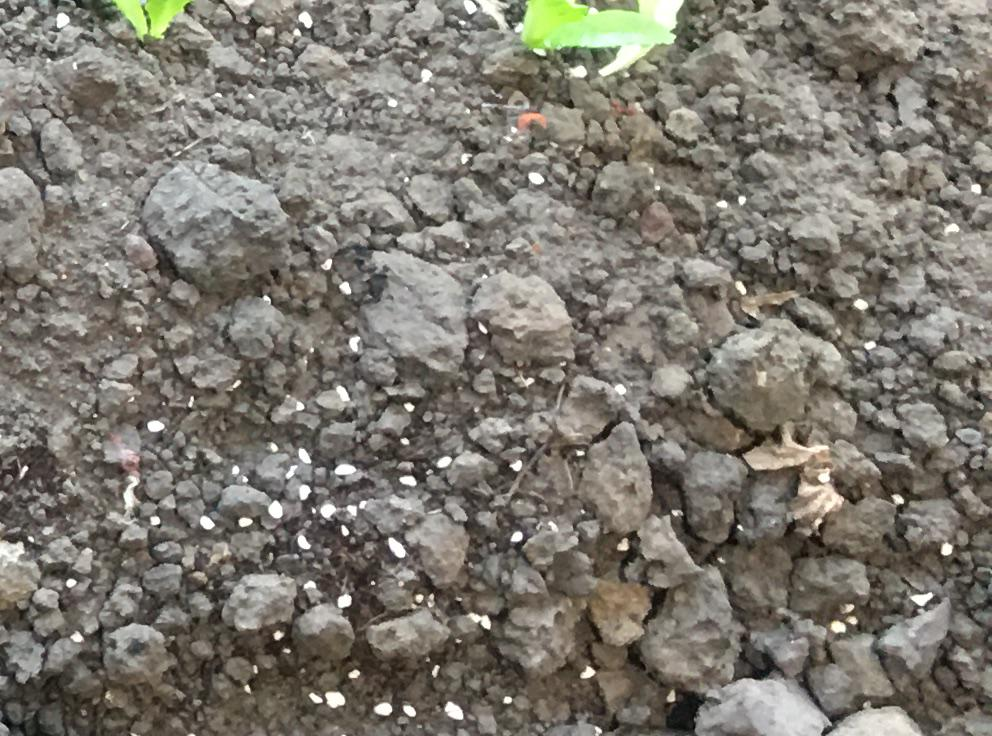block: (140, 159, 299, 293), (327, 246, 467, 383), (637, 564, 738, 697), (700, 325, 805, 434), (473, 272, 572, 374)
